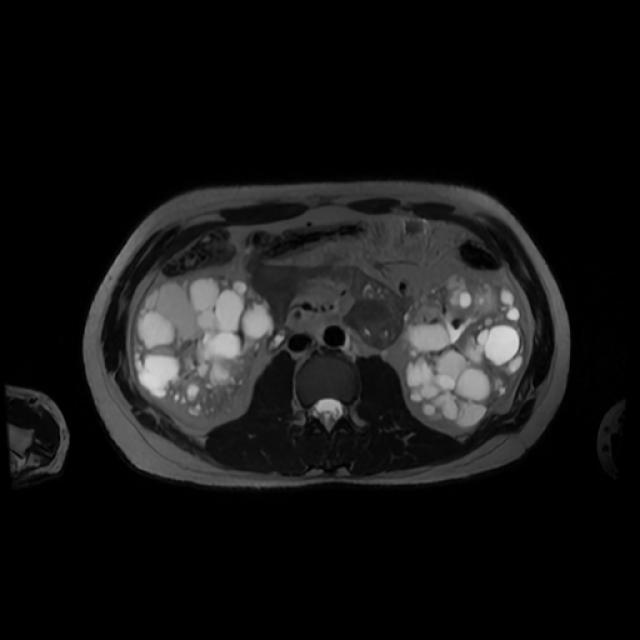sag: (135, 278, 275, 417)
sol: (405, 277, 524, 425)
